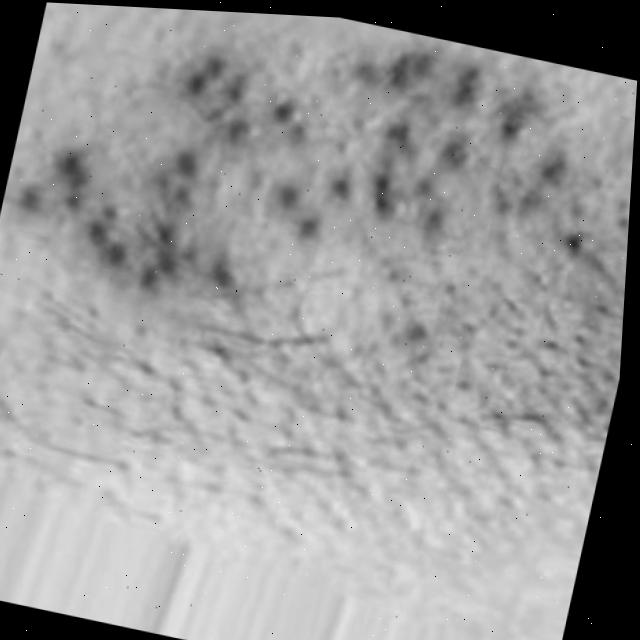Shingles: (0, 1, 619, 367)
